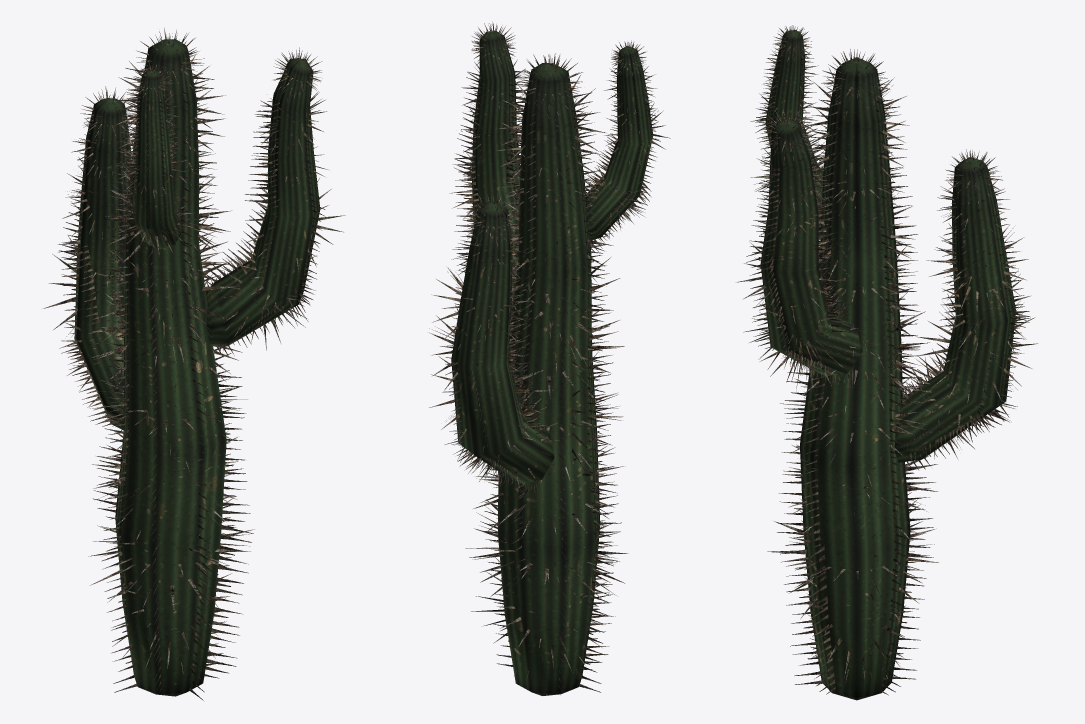
File: cactus.glb
3 views of the same model, side by side, from view 1: azimuth 30°, elevation 25°; view 2: azimuth 150°, elevation 25°; view 3: azimuth 270°, elevation 25° (orthographic). The views are drawn at different scales.
Visible parts, largest first — view 1: cactus; view 2: cactus; view 3: cactus.
Boxes of the visible parts, <box> form: cactus: <box>43,28,345,700</box>; cactus: <box>429,21,670,695</box>; cactus: <box>736,25,1038,700</box>.
Size of the model in its own units: 1.21 by 3.06 by 1.51.
Materials: 1 (1 with a texture image).
